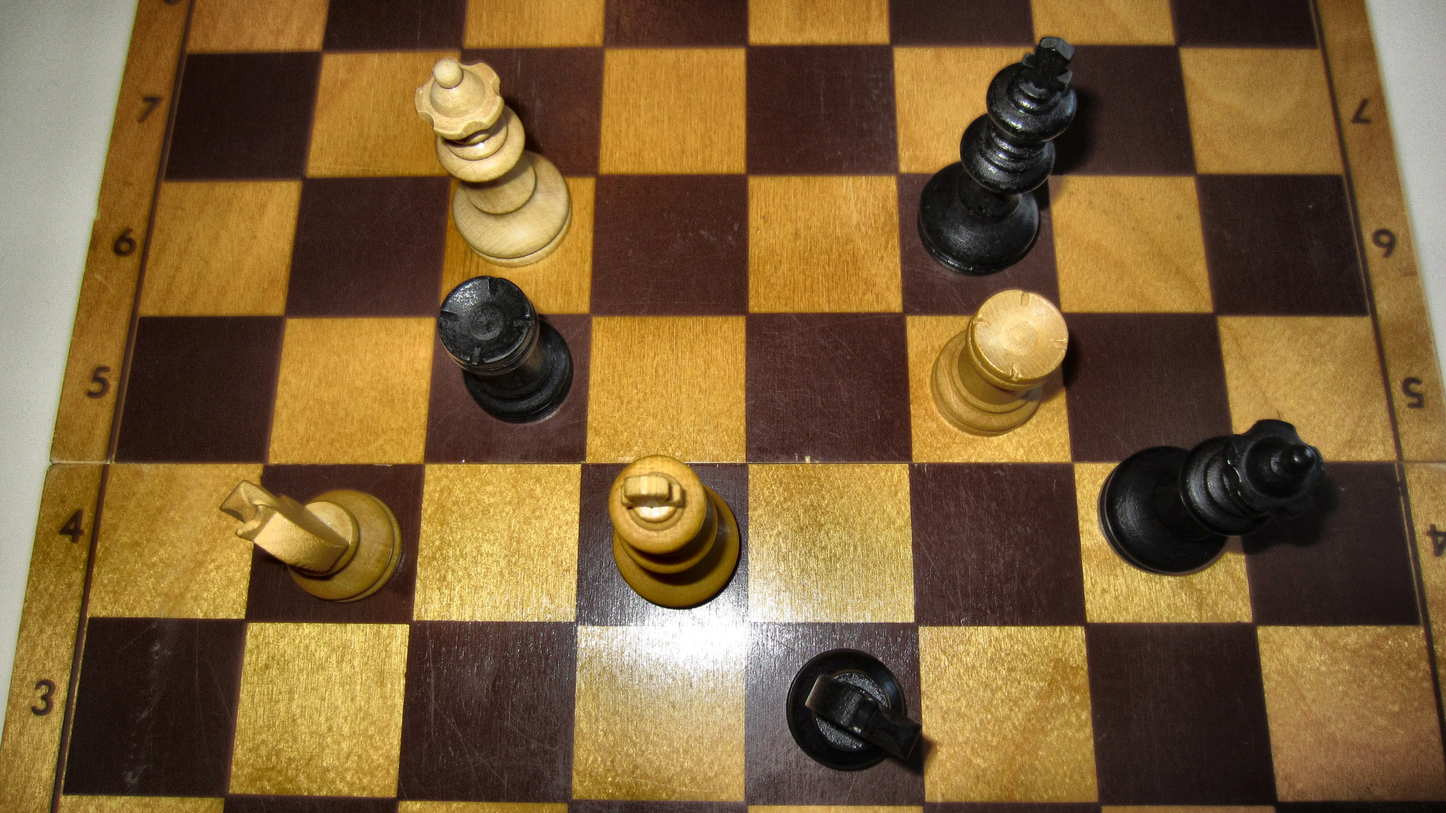black-king: (917, 34, 1080, 276)
black-knight: (784, 647, 923, 772)
black-queen: (1095, 419, 1329, 578)
black-rook: (435, 275, 576, 424)
white-king: (607, 452, 741, 609)
white-knight: (217, 477, 403, 604)
white-queen: (412, 56, 572, 267)
white-rook: (929, 288, 1069, 438)
